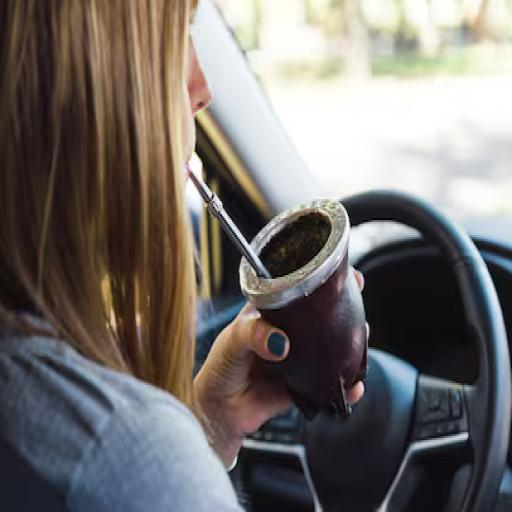mate: (232, 191, 370, 419)
